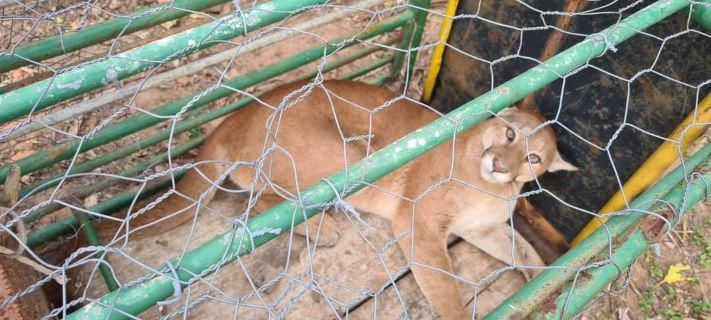OncaParda: (87, 74, 572, 312)
